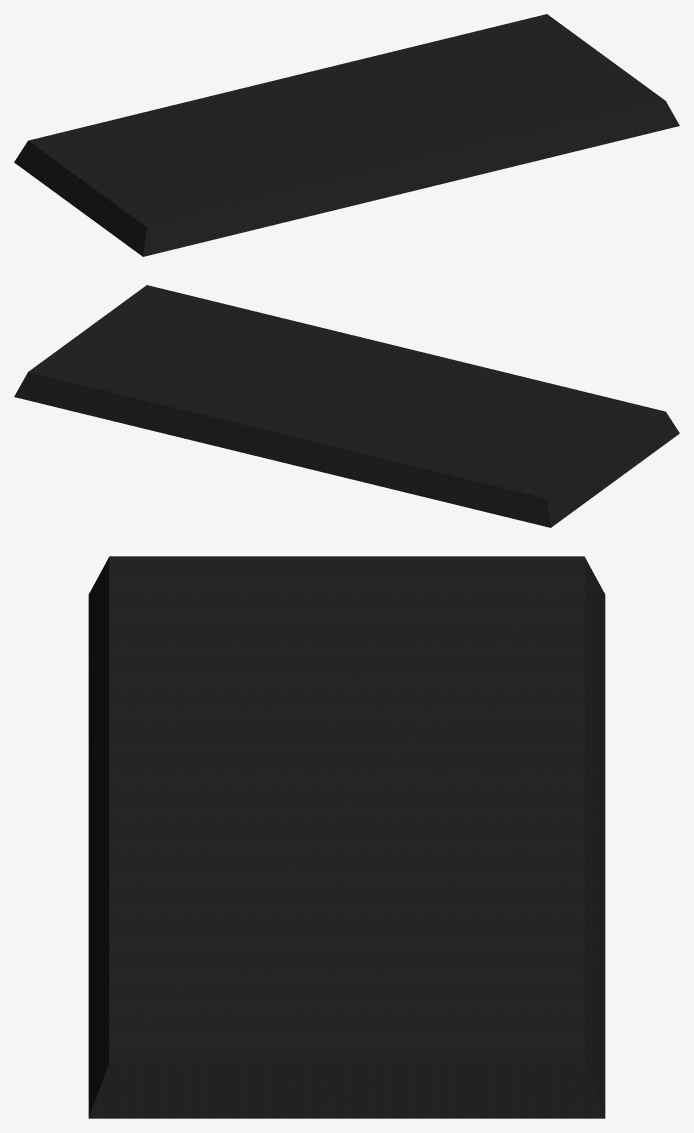
File: HAMAMA3.gltf
3 views of the same model, one above another, from view 1: azimuth 30°, elevation 25°; view 2: azimuth 150°, elevation 25°; view 3: azimuth 270°, elevation 25° (orthographic). The views are drawn at different scales.
Visible parts, largest first — view 1: node2; view 2: node2; view 3: node2.
Boxes of the visible parts, box(x1,y1,x2,y2) form: node2: box(14, 14, 679, 256); node2: box(14, 285, 679, 527); node2: box(88, 556, 605, 1118).
Bounding box in the file's own units: 60 × 2.5 × 25.
